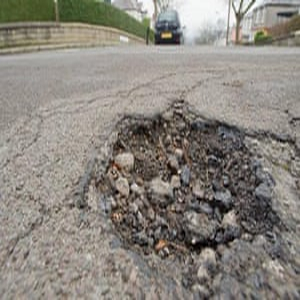pothole: (97, 100, 274, 267)
